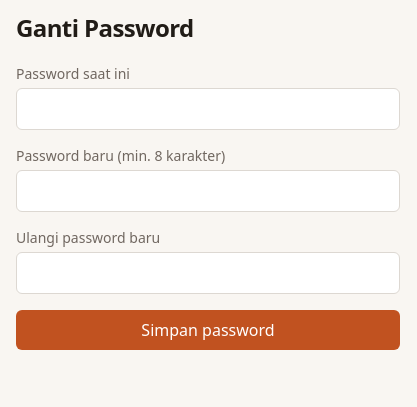
Test: ChangePasswordView › submits 3 field → sukses: pesan tampil & field dikosongkan
Type "password-lama" into the password field labelled "Password saat ini" at (208, 109), box [16, 88, 400, 130]
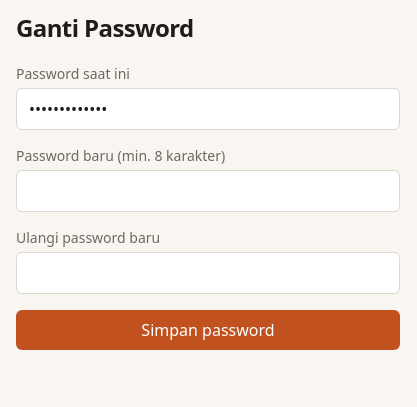
Type "password-baru-9" into the password field labelled "Password baru (min. 8 karakter)" at (208, 191), box [16, 170, 400, 212]
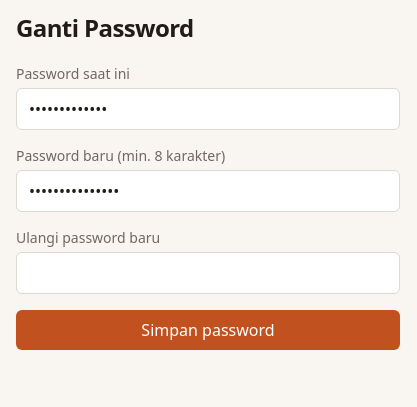
Type "password-baru-9" into the password field labelled "Ulangi password baru" at (208, 273), box [16, 252, 400, 294]
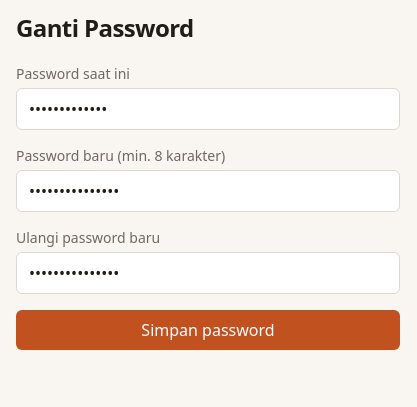
Submit the form
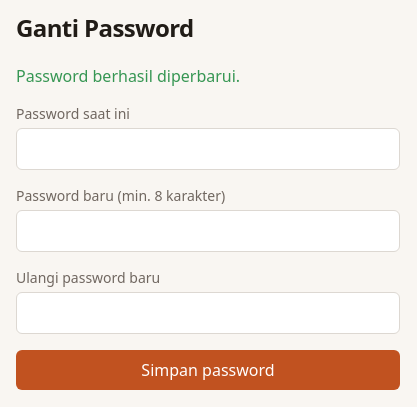
Now the text with test id "change-success" reads "Password berhasil diperbarui.", box [16, 65, 240, 87]
Now the password field labelled "Password saat ini" is empty, box [16, 128, 400, 170]
Now the password field labelled "Password baru (min. 8 karakter)" is empty, box [16, 210, 400, 252]
